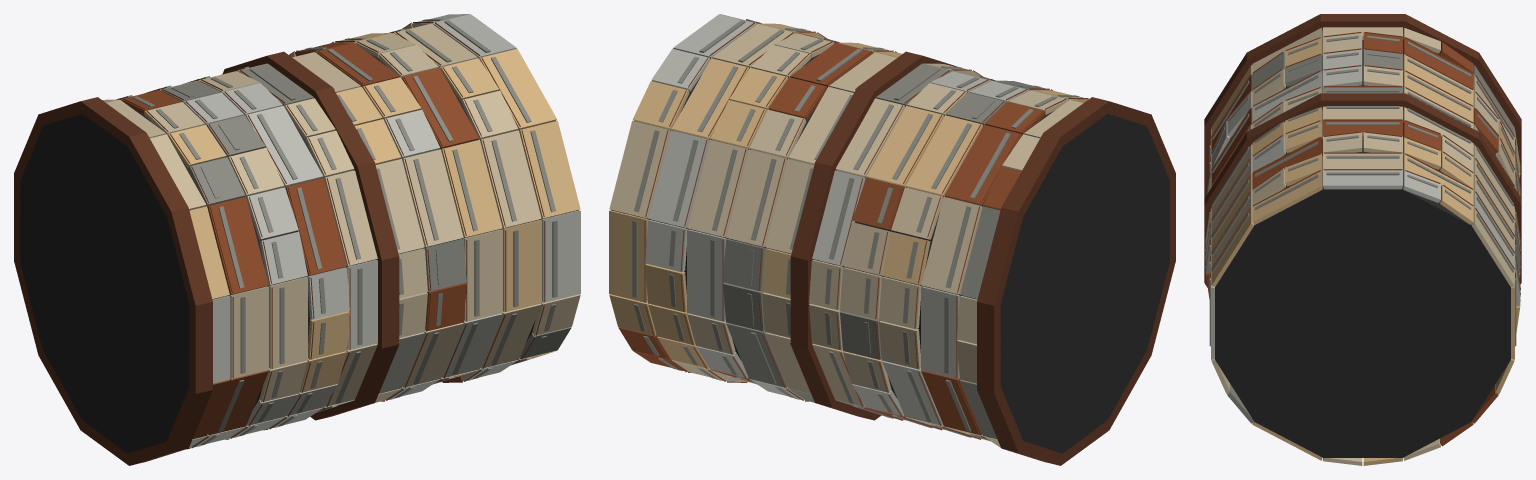
File: ship_hull_ring.glb
3 views of the same model, side by side, from view 1: azimuth 30°, elevation 25°; view 2: azimuth 150°, elevation 25°; view 3: azimuth 270°, elevation 25° (orthographic). The views are drawn at different scales.
Parts seen in each view (by area): view 1: ship_hull_ring; view 2: ship_hull_ring; view 3: ship_hull_ring.
Part boxes in pixels (x1,y1,x2,y2): ship_hull_ring: (14,14,580,465); ship_hull_ring: (609,14,1175,465); ship_hull_ring: (1204,14,1521,465).
Bounding box in the file's own units: 45 × 36.32 × 36.32.
